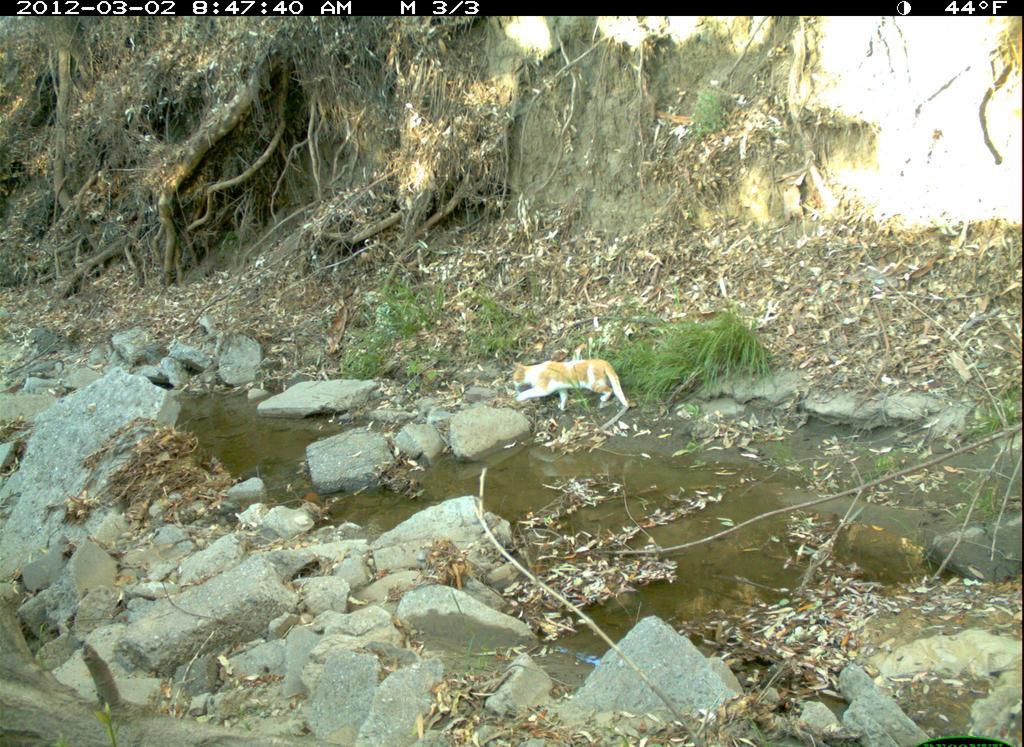cat: (503, 355, 639, 418)
